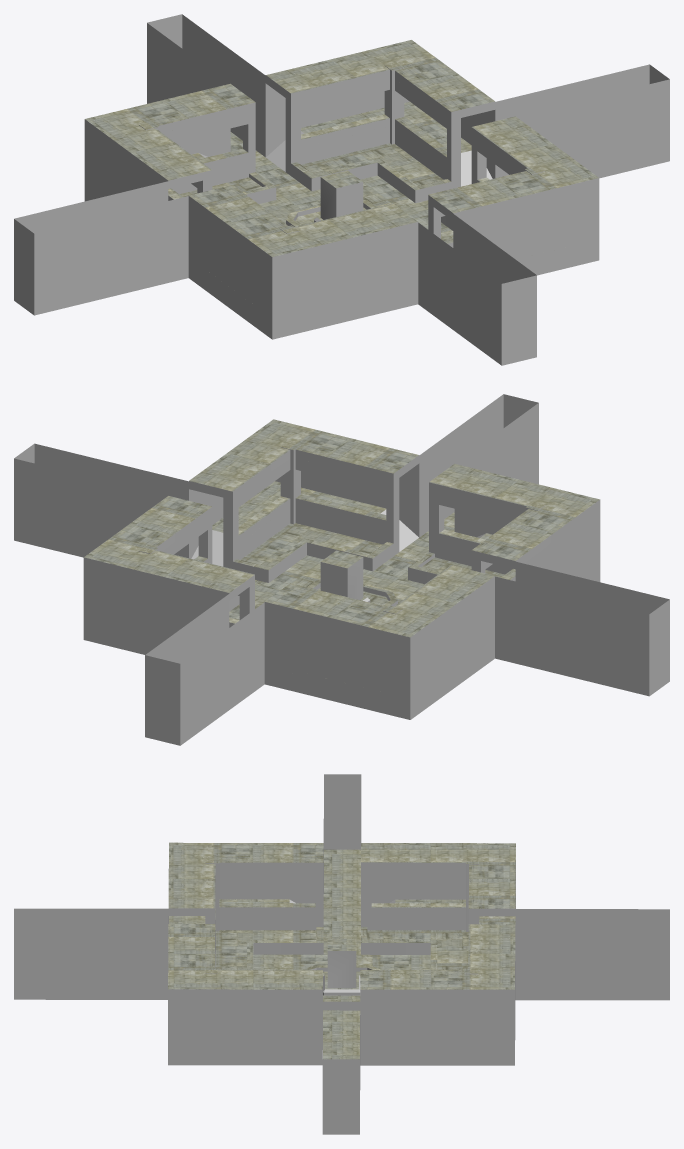
Rendered from SM_TheSamePlace_12_Block_00.fbx.
3 renders of one model, top to bottom at view 1: azimuth 30°, elevation 25°; view 2: azimuth 150°, elevation 25°; view 3: azimuth 270°, elevation 25°, orthographic. The views are drawn at different scales.
Visible parts, largest first — view 1: SM_TheSamePlace_12_Block_00; view 2: SM_TheSamePlace_12_Block_00; view 3: SM_TheSamePlace_12_Block_00.
Part boxes in pixels (left/top/right/bottom): SM_TheSamePlace_12_Block_00: left=14, top=14, right=669, bottom=365; SM_TheSamePlace_12_Block_00: left=14, top=394, right=669, bottom=745; SM_TheSamePlace_12_Block_00: left=14, top=774, right=669, bottom=1134.
Size of the model in its own units: 6351 by 796 by 6174.
